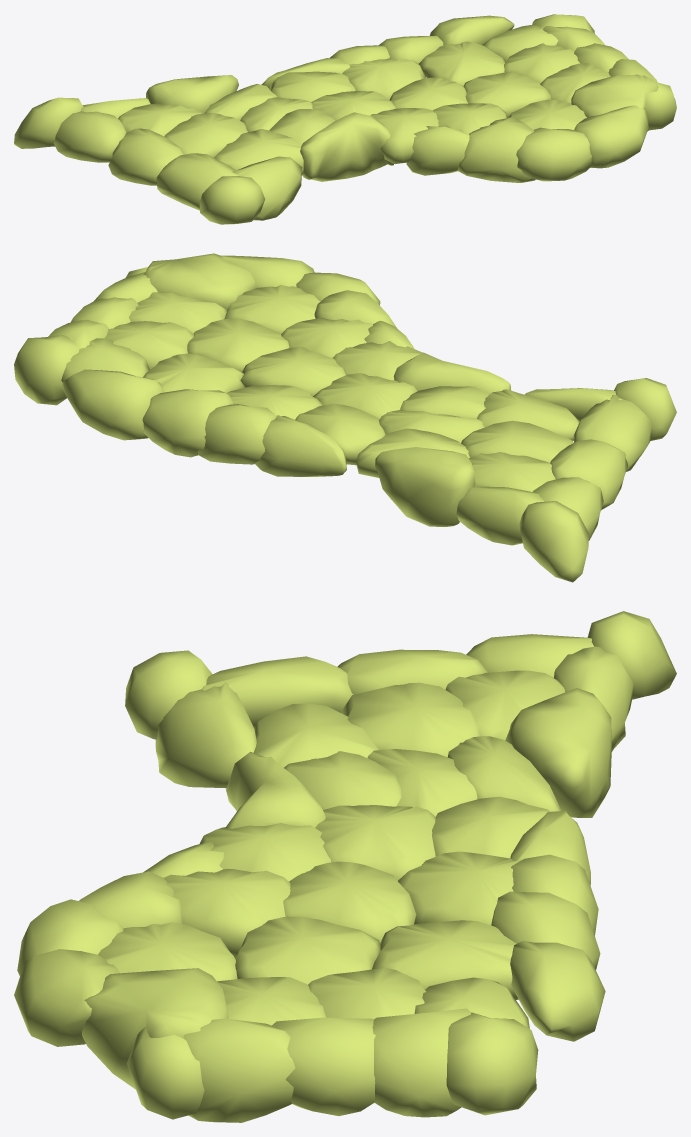
The model's file is Islands2.005_fog.fbx.
3 renders of one model, top to bottom at view 1: azimuth 30°, elevation 25°; view 2: azimuth 150°, elevation 25°; view 3: azimuth 270°, elevation 25°, orthographic. The views are drawn at different scales.
Visible parts, largest first — view 1: Island2.005_fog_cell.038, Island2.005_fog_cell.003, Island2.005_fog_cell.016, Island2.005_fog_cell.029, Island2.005_fog_cell.040, Island2.005_fog_cell.035, Island2.005_fog_cell.008, Island2.005_fog_cell.005, Island2.005_fog_cell.007, Island2.005_fog_cell.032, Island2.005_fog_cell.026, Island2.005_fog_cell.025 (+29 smaller); view 2: Island2.005_fog_cell.033, Island2.005_fog_cell.034, Island2.005_fog_cell.010, Island2.005_fog_cell.018, Island2.005_fog_cell.036, Island2.005_fog_cell.032, Island2.005_fog_cell.006, Island2.005_fog_cell.009, Island2.005_fog_cell.026, Island2.005_fog_cell.039, Island2.005_fog_cell.015, Island2.005_fog_cell.008 (+28 smaller); view 3: Island2.005_fog_cell.032, Island2.005_fog_cell.033, Island2.005_fog_cell.004, Island2.005_fog_cell, Island2.005_fog_cell.015, Island2.005_fog_cell.025, Island2.005_fog_cell.013, Island2.005_fog_cell.007, Island2.005_fog_cell.026, Island2.005_fog_cell.034, Island2.005_fog_cell.012, Island2.005_fog_cell.039 (+29 smaller).
Boxes of the visible parts, box(x1,y1,x2,y2) form: Island2.005_fog_cell.038: box(300, 112, 393, 181); Island2.005_fog_cell.003: box(457, 117, 535, 182); Island2.005_fog_cell.016: box(516, 127, 591, 181); Island2.005_fog_cell.029: box(574, 105, 648, 168); Island2.005_fog_cell.040: box(53, 111, 126, 162); Island2.005_fog_cell.035: box(108, 128, 184, 185); Island2.005_fog_cell.008: box(156, 153, 239, 210); Island2.005_fog_cell.005: box(199, 176, 265, 224); Island2.005_fog_cell.007: box(419, 41, 505, 85); Island2.005_fog_cell.032: box(571, 74, 658, 131); Island2.005_fog_cell.026: box(463, 72, 550, 117); Island2.005_fog_cell.025: box(232, 156, 302, 220); Island2.005_fog_cell.033: box(374, 447, 475, 526); Island2.005_fog_cell.034: box(61, 369, 163, 440); Island2.005_fog_cell.010: box(519, 501, 588, 582); Island2.005_fog_cell.018: box(255, 415, 346, 476); Island2.005_fog_cell.036: box(142, 389, 232, 457); Island2.005_fog_cell.032: box(143, 253, 255, 309); Island2.005_fog_cell.006: box(197, 404, 276, 464); Island2.005_fog_cell.009: box(456, 486, 544, 545); Island2.005_fog_cell.026: box(187, 318, 289, 372); Island2.005_fog_cell.039: box(240, 346, 345, 395); Island2.005_fog_cell.015: box(14, 335, 79, 405); Island2.005_fog_cell.008: box(573, 394, 651, 471); Island2.005_fog_cell.032: box(82, 968, 228, 1089); Island2.005_fog_cell.033: box(505, 688, 611, 817); Island2.005_fog_cell.004: box(183, 1018, 295, 1122); Island2.005_fog_cell: box(271, 1017, 375, 1115); Island2.005_fog_cell.015: box(446, 1012, 538, 1115); Island2.005_fog_cell.025: box(155, 682, 256, 788); Island2.005_fog_cell.013: box(372, 1008, 470, 1117); Island2.005_fog_cell.007: box(372, 920, 518, 999); Island2.005_fog_cell.026: box(235, 916, 380, 984); Island2.005_fog_cell.034: box(510, 940, 605, 1041); Island2.005_fog_cell.012: box(341, 682, 480, 757); Island2.005_fog_cell.039: box(283, 861, 416, 942).
Size of the model in its own units: 94.68 by 9.55 by 57.63.
